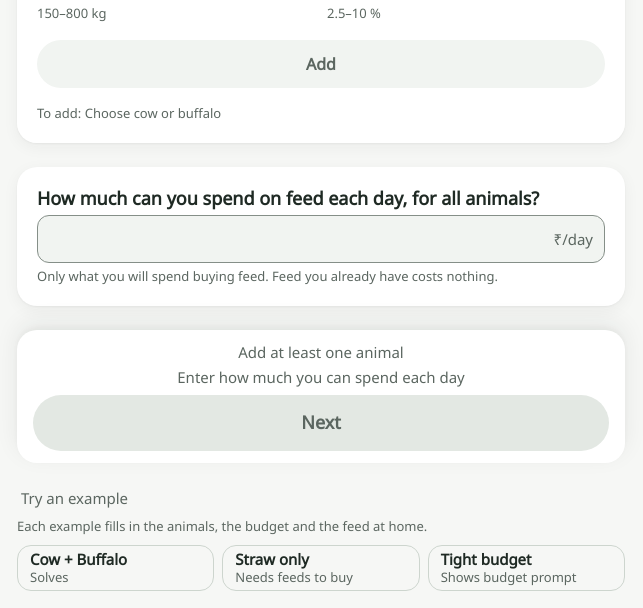
herdUi (Change 4 Milestone 1 UI and 3-screen flow) › Screen 1 gating lines and Next button › enables Next when at least 1 animal and positive budget exist
(page scrolled)
Click the button "Cow + Buffalo Solves" at (116, 568), box [17, 545, 214, 591]
(page scrolled)
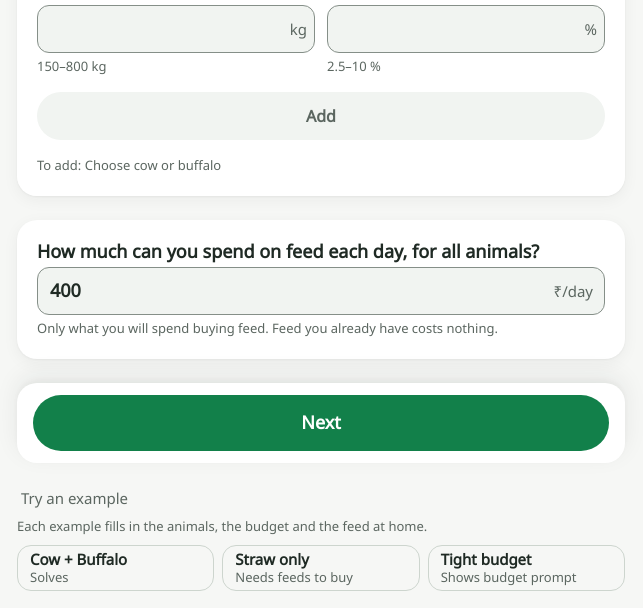
Check: the button "Next" is enabled, box [33, 394, 609, 450]
Check: the list with class "c4-bar-reason" is gone
